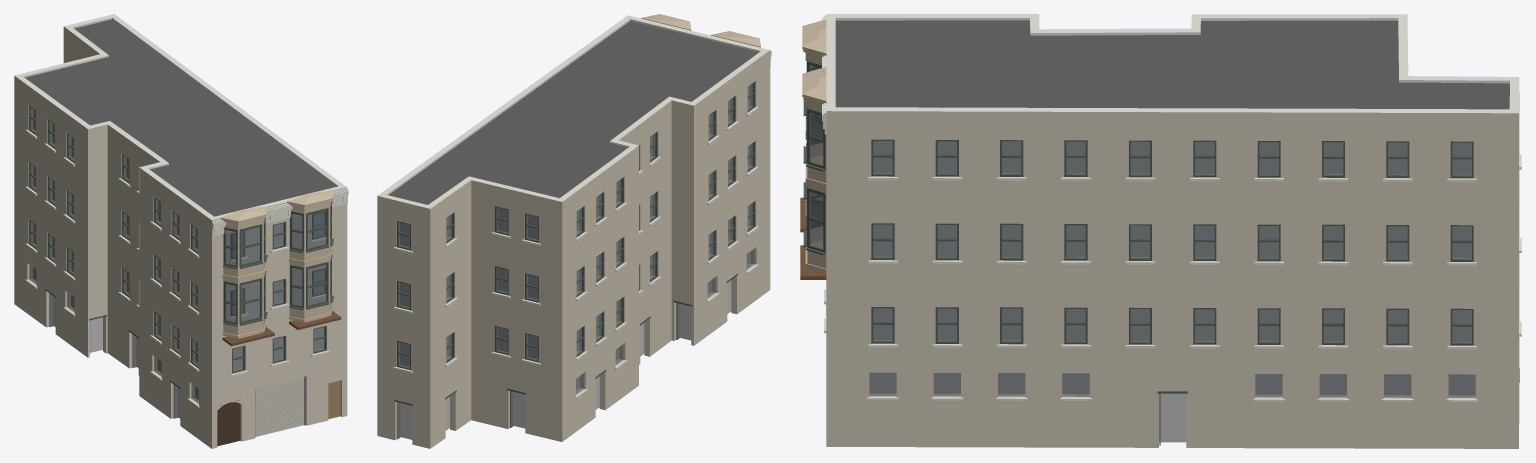
The model's file is exterior.glb.
3 renders of one model, left to right at view 1: azimuth 30°, elevation 25°; view 2: azimuth 150°, elevation 25°; view 3: azimuth 270°, elevation 25°, orthographic. The views are drawn at different scales.
Visible parts, largest first — view 1: shell, roof, bay-glazing-hyb, shadow-proxy, bay-windows-hyb, storefront, glazing, frames, trim, hand-ornament; view 2: shell, roof, glazing, shadow-proxy, frames, trim, bay-windows-hyb, storefront; view 3: shell, roof, glazing, shadow-proxy, frames, trim, bay-windows-hyb, bay-glazing-hyb.
Part boxes in pixels (x1,y1,x2,y2): shell: (14, 14, 347, 448); roof: (25, 19, 336, 216); bay-glazing-hyb: (223, 201, 333, 326); shadow-proxy: (33, 110, 325, 418); bay-windows-hyb: (220, 190, 334, 338); storefront: (45, 289, 340, 446); glazing: (29, 108, 324, 403); frames: (28, 57, 326, 373); trim: (25, 129, 348, 407); hand-ornament: (222, 310, 341, 346); shell: (377, 15, 770, 448); roof: (388, 21, 758, 204); glazing: (399, 84, 754, 393); shadow-proxy: (400, 86, 750, 439); frames: (397, 81, 755, 370); trim: (393, 50, 771, 398); bay-windows-hyb: (641, 14, 760, 47); storefront: (394, 273, 737, 439); shell: (826, 14, 1519, 448); roof: (835, 20, 1509, 109); glazing: (869, 141, 1475, 397); shadow-proxy: (869, 141, 1475, 442); frames: (871, 139, 1473, 345); trim: (822, 15, 1521, 402); bay-windows-hyb: (802, 19, 826, 272); bay-glazing-hyb: (803, 53, 825, 255).
Bounding box in the file's own units: 8.76 × 13.69 × 26.38.
